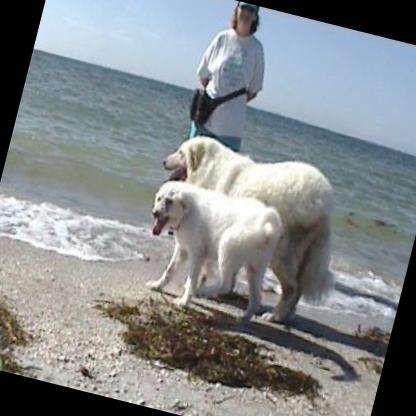kuvasz: (129, 124, 362, 336), (128, 172, 290, 336)
